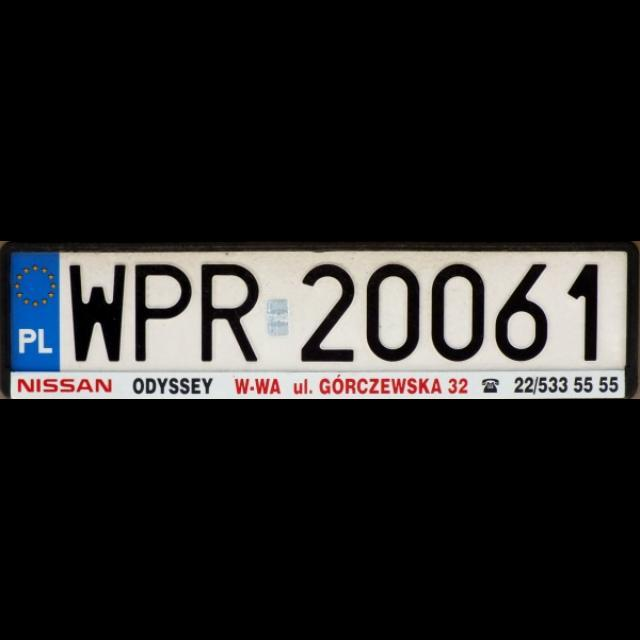license-plates: (0, 244, 639, 399)
